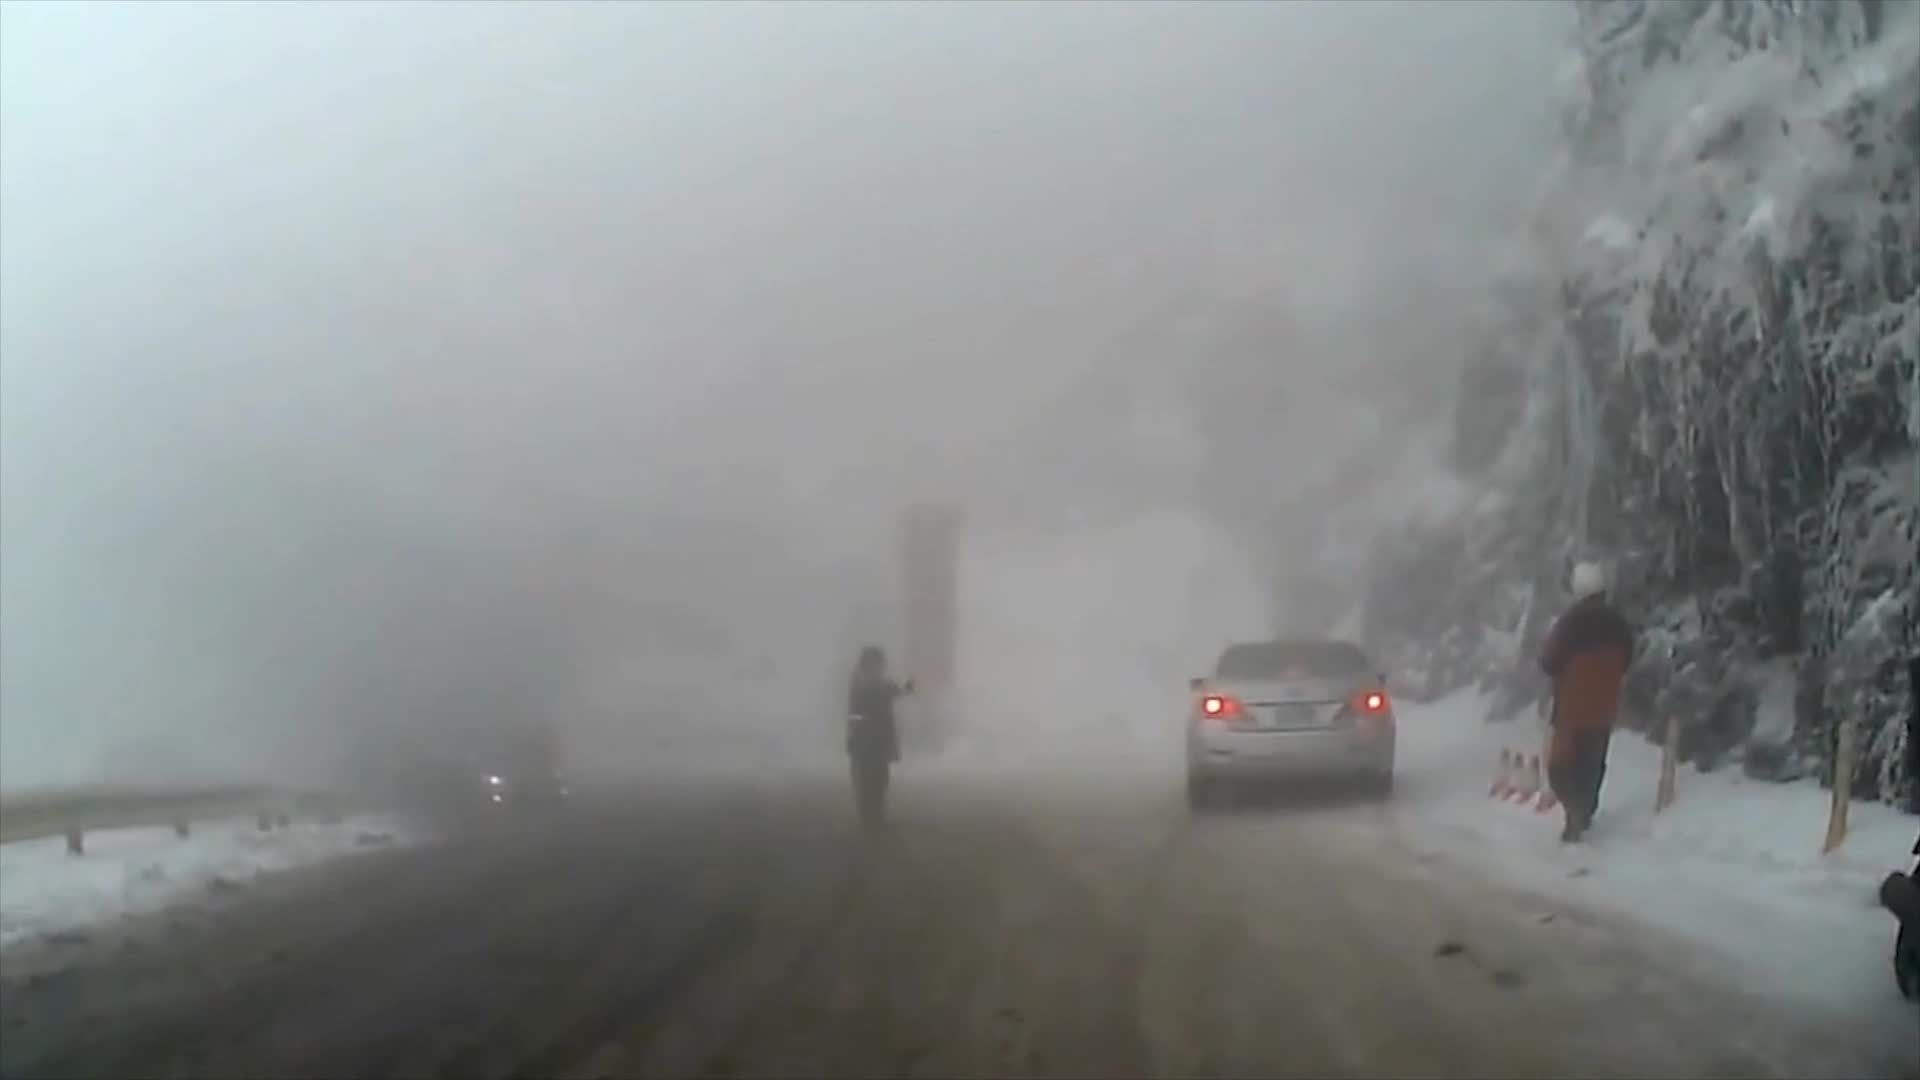pedestrian: (1535, 552, 1643, 841), (848, 644, 912, 830)
vehicle: (1185, 634, 1393, 809)
